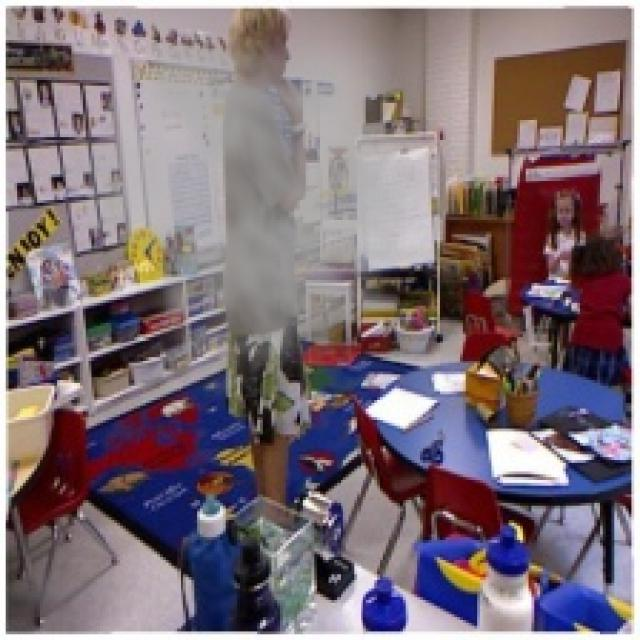smoke: (49, 12, 468, 414)
